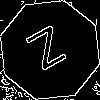Z: (25, 25, 74, 80)
